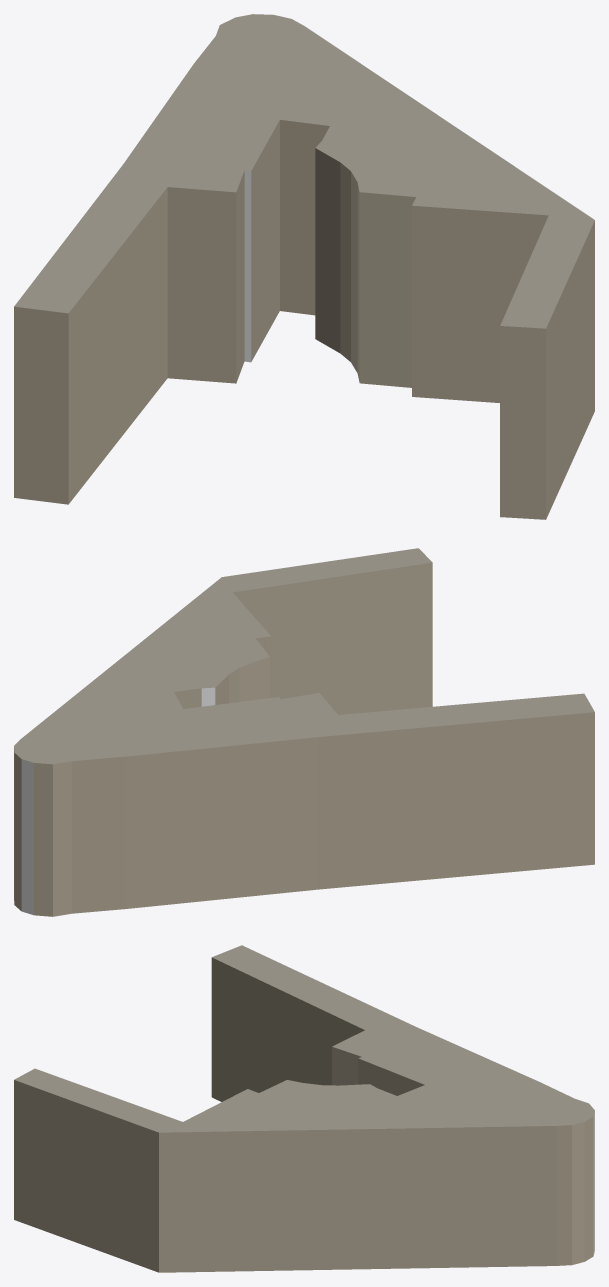
3 views of the same model, one above another, from view 1: azimuth 30°, elevation 25°; view 2: azimuth 150°, elevation 25°; view 3: azimuth 270°, elevation 25° (orthographic). The views are drawn at different scales.
Parts seen in each view (by area): view 1: tuile; view 2: tuile; view 3: tuile.
Part boxes in pixels (x1,y1,x2,y2): tuile: [14, 14, 594, 519]; tuile: [14, 548, 594, 916]; tuile: [14, 945, 594, 1272].
Size of the model in its own units: 91.11 by 31.74 by 119.
